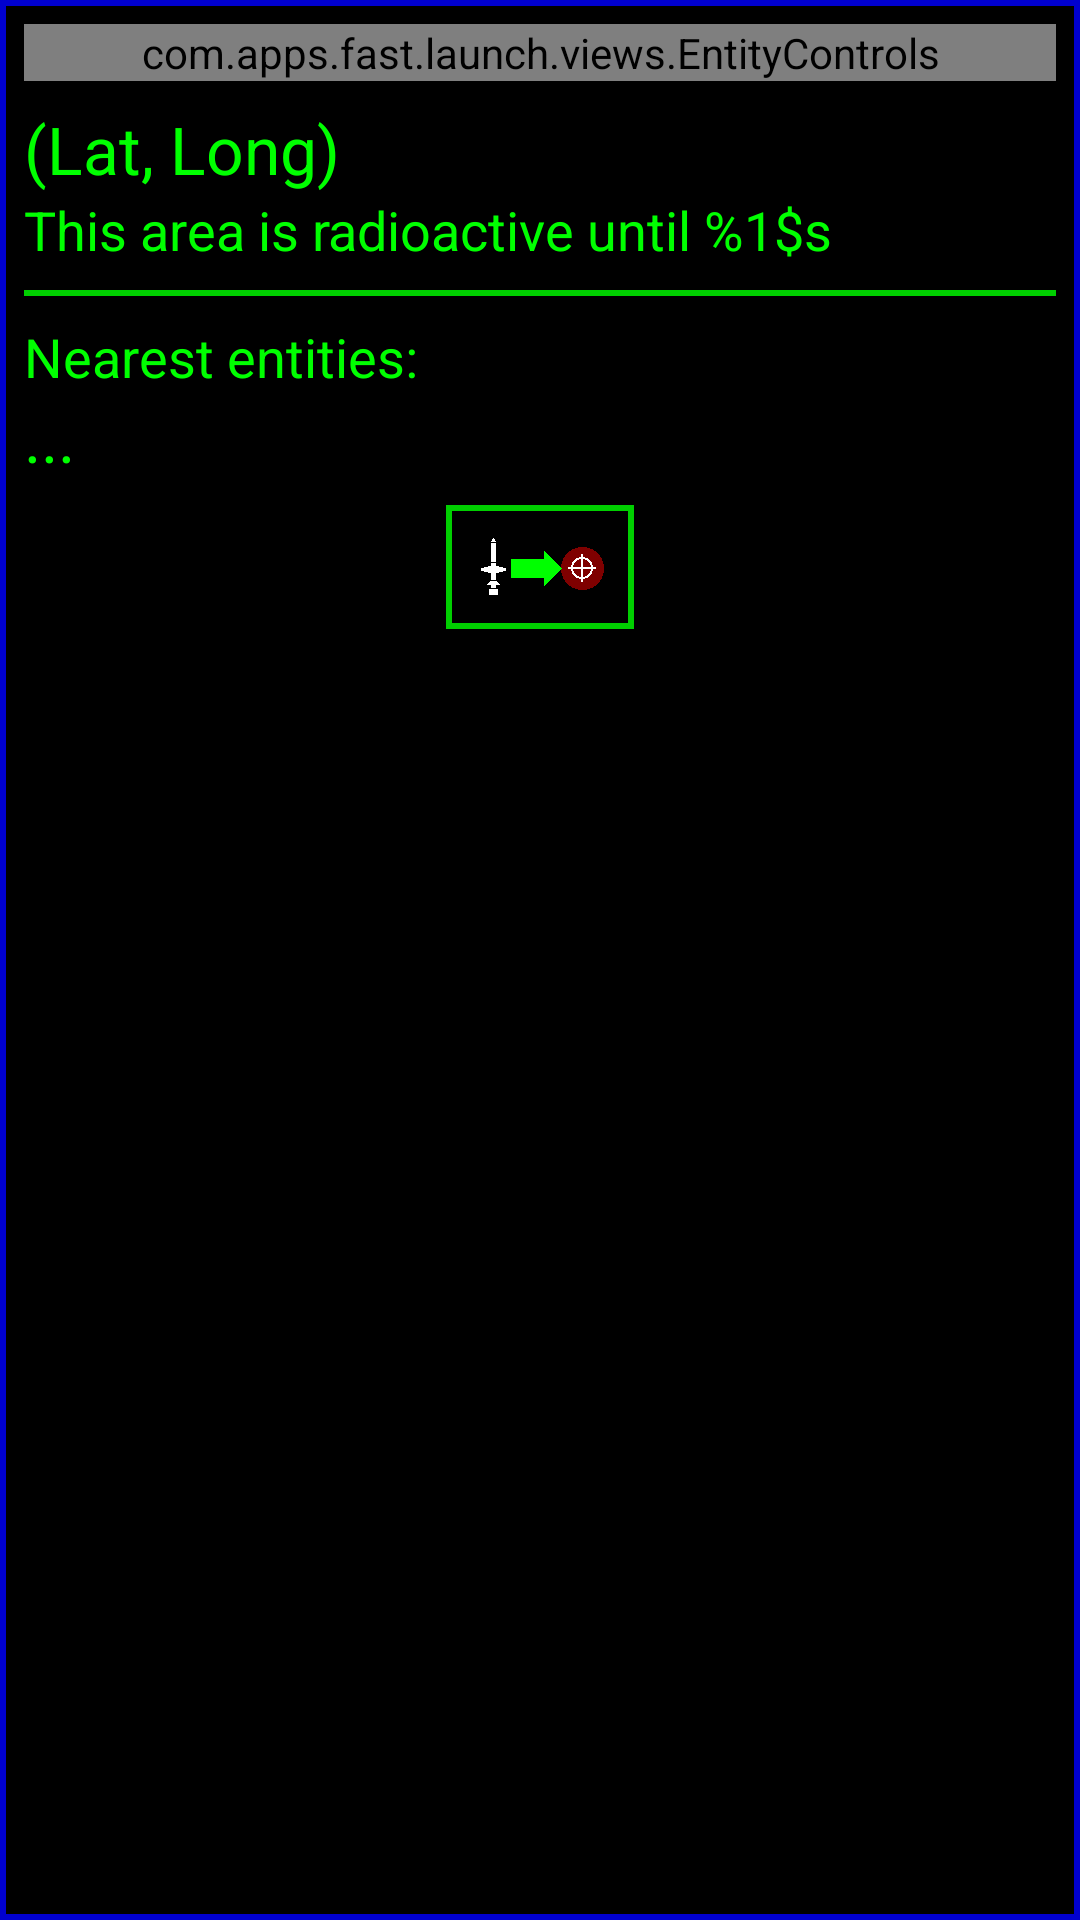

Locate icon controls on the screen. Image size 1080px x 1920px, boxes as (x1=x1, y1=y1, x2=x2, y2=y2).
missile target: (x1=446, y1=505, x2=634, y2=629)
